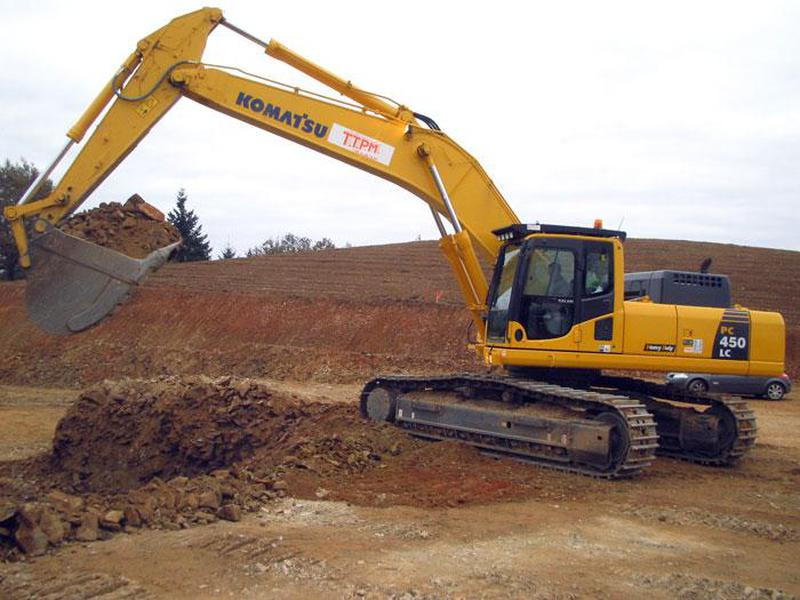shovel: (7, 5, 792, 485)
